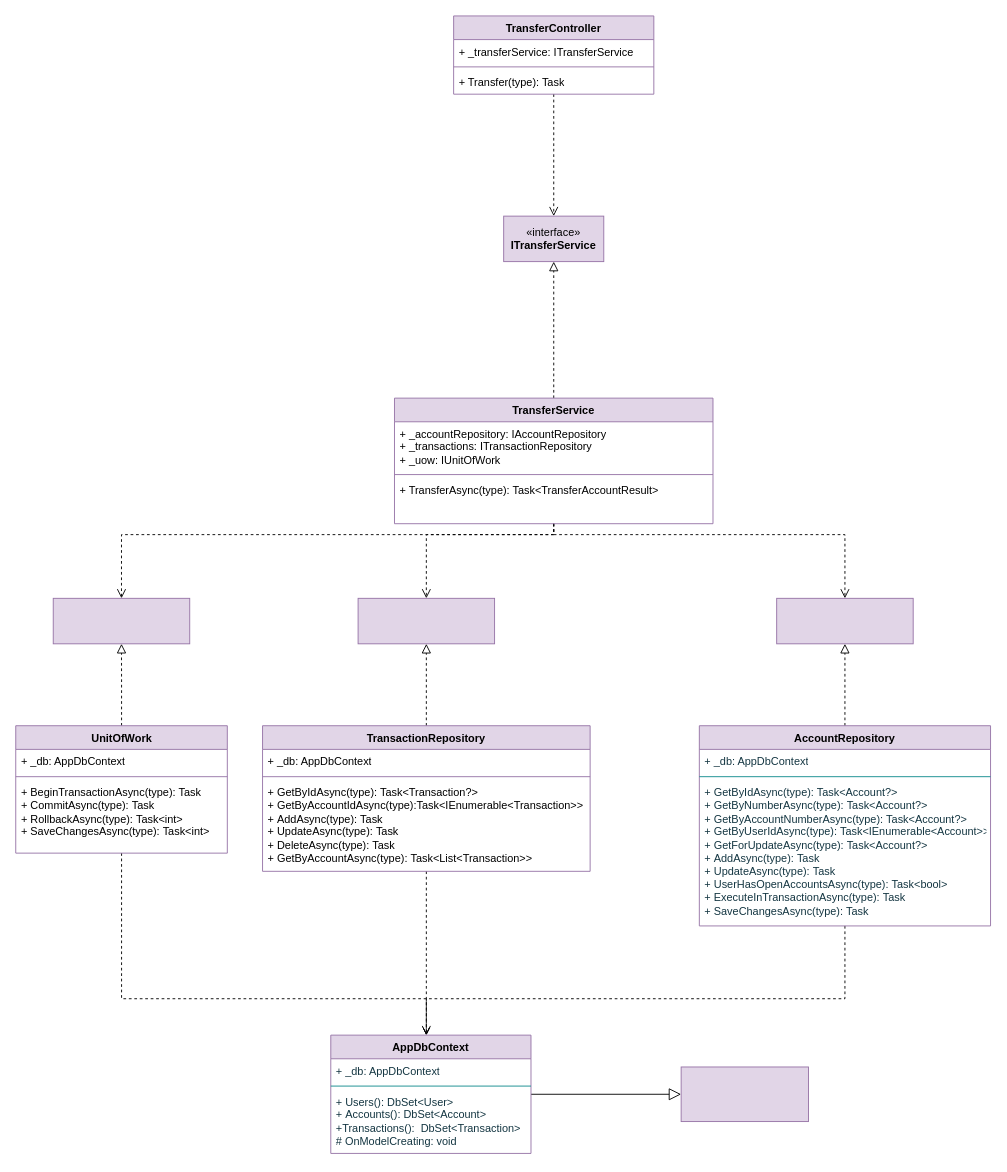
Image size: 1007x1172. Some labels were removed from this diagram. The centre of each missing label's shape, as x and y in pixels:
DbContext: (744,1094)
«interface» IAccountRepository: (844,620)
«interface» ITransactionRepository: (426,620)
«interface» IUnitOfWork: (121,620)
